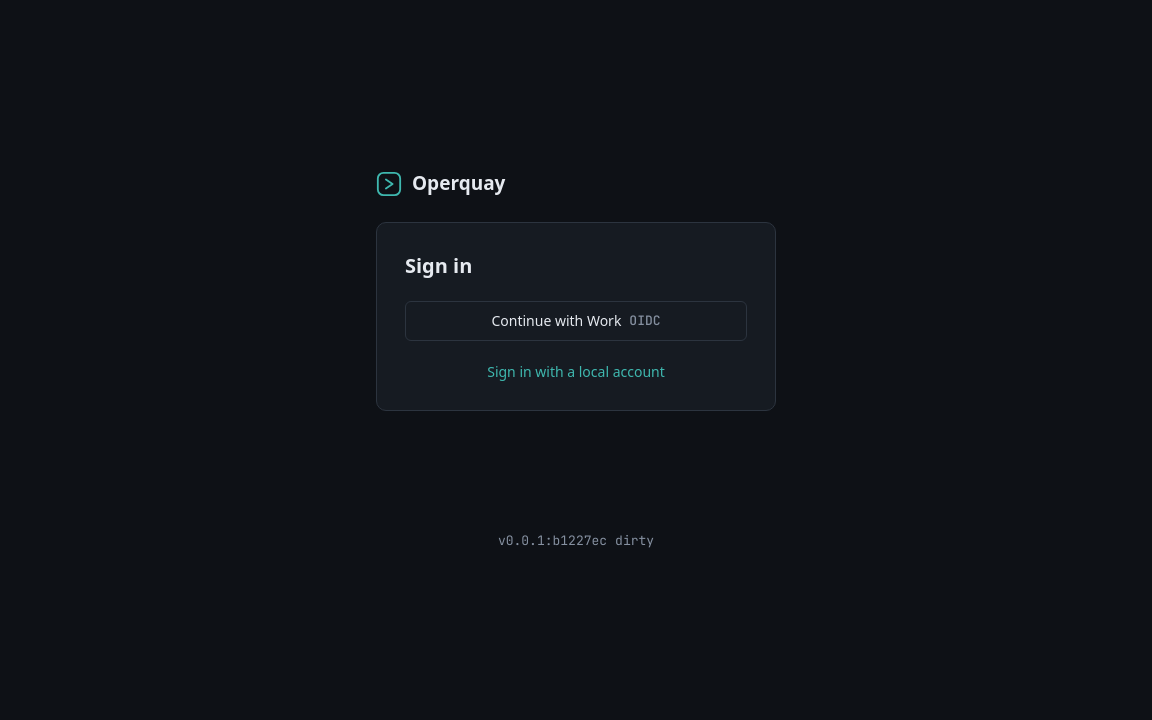
makes opted-in local sign-in discoverable with SSO
The width and height of the screenshot is (1152, 720).
Click the button "Sign in with a local account".
click(576, 371)  # box [405,361,747,382]
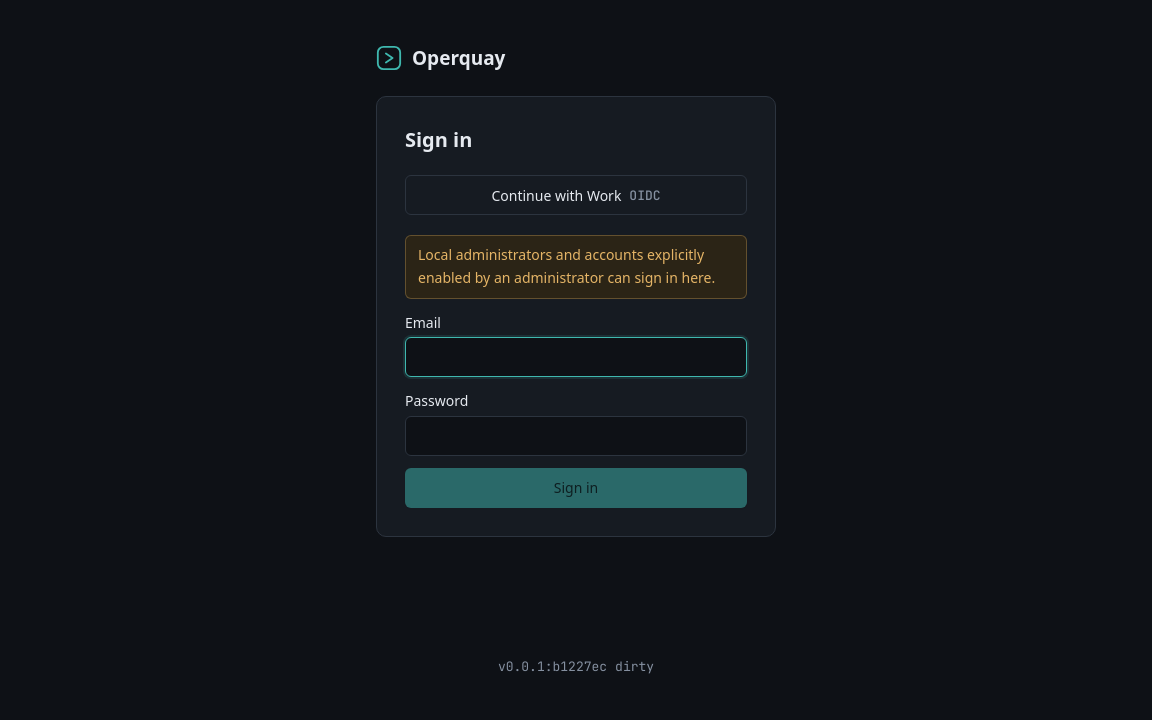
Expected: the text "accounts explicitly enabled" is shown, [418,245,715,287]
